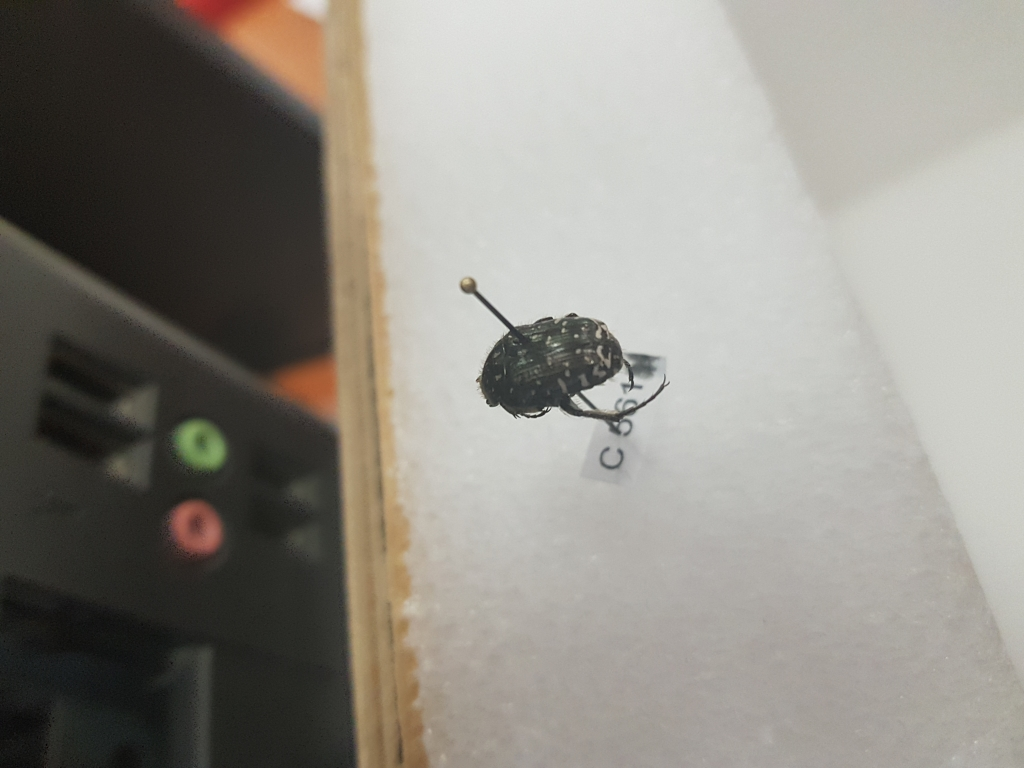Oxythyrea_funesta: (459, 303, 674, 431)
